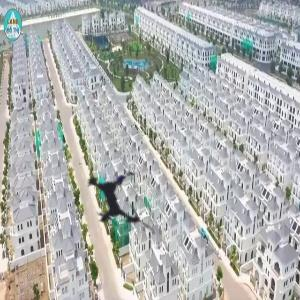drone: (48, 131, 188, 271)
